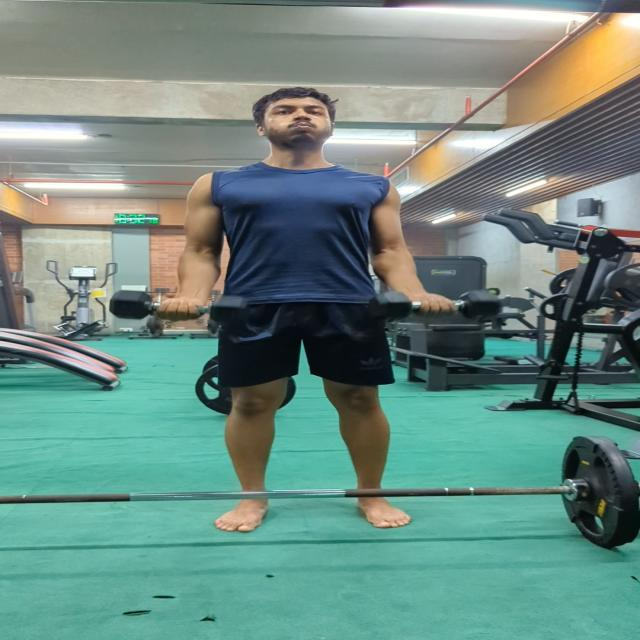Normal_DumbbellBicepCurls: (99, 82, 511, 538)
